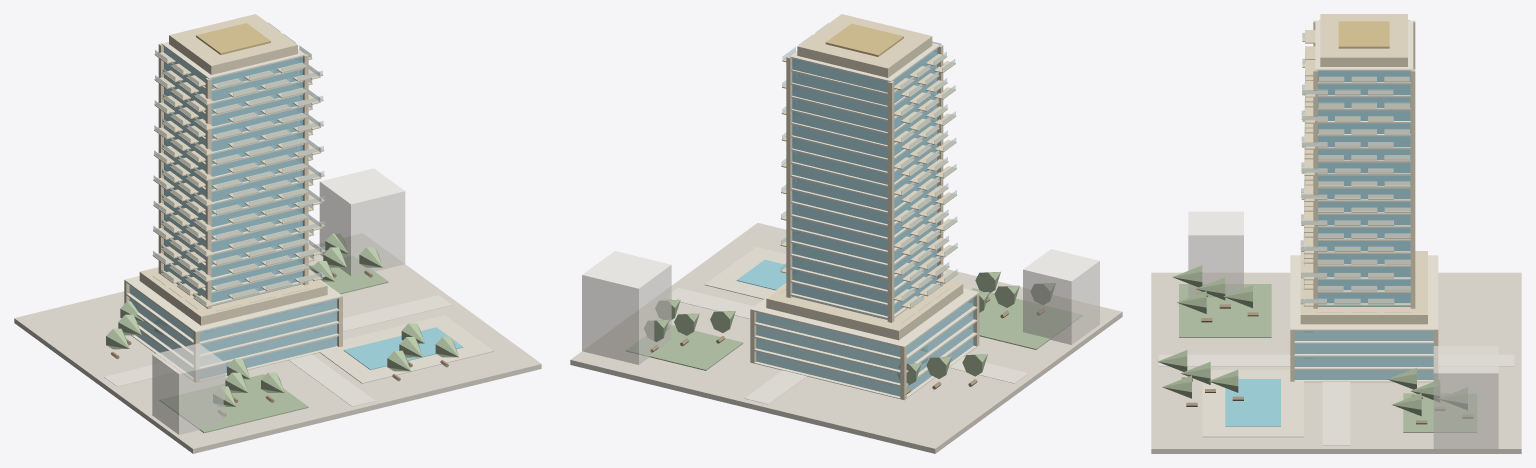
File: sky-gardens-jvc.glb
3 renders of one model, left to right at view 1: azimuth 30°, elevation 25°; view 2: azimuth 150°, elevation 25°; view 3: azimuth 270°, elevation 25°, orthographic. The views are drawn at different scales.
Visible parts, largest first — view 1: site, b1glass, b0glass, ctx0, ctx1, green1, b0crown, b1crown, courtdeck, b0s3, pathx, b0s2 (+29 smaller); view 2: site, b1glass, ctx0, b0glass, ctx1, b0crown, b1crown, green1, b0s3, green2, b0s2, b0s1 (+29 smaller); view 3: site, b1glass, ctx0, b0glass, ctx1, green1, courtdeck, b1crown, b0crown, b0s4, pool, pathz (+35 smaller).
Boxes of the visible parts, x1,y1,x2,y2 form: site: (14,233,541,453); b1glass: (164,47,302,306); b0glass: (129,285,337,378); ctx0: (319,168,405,276); ctx1: (152,343,225,434); green1: (159,374,308,433); b0crown: (139,265,327,325); b1crown: (169,14,297,74); courtdeck: (319,315,493,383); b0s3: (124,290,342,345); pathx: (104,295,451,386); b0s2: (136,304,342,356); site: (570,223,1122,453); b1glass: (792,48,937,319); ctx0: (582,251,671,364); b0glass: (756,298,973,396); ctx1: (1023,249,1099,344); b0crown: (766,277,963,340); b1crown: (797,14,932,77); green1: (968,288,1082,349); b0s3: (750,303,979,360); green2: (626,324,743,370); b0s2: (750,316,979,373); b0s1: (750,329,978,387); site: (1151,272,1521,453); b1glass: (1318,71,1410,306); ctx0: (1433,346,1498,448); b0glass: (1294,331,1433,379); ctx1: (1188,211,1243,297); green1: (1179,284,1271,337); courtdeck: (1202,370,1303,437); b1crown: (1320,14,1407,66); b0crown: (1300,251,1427,324); b0s4: (1290,255,1438,330); pool: (1225,379,1280,426); pathz: (1158,354,1514,366).
Size of the model in its own units: 90 by 75.35 by 80.
